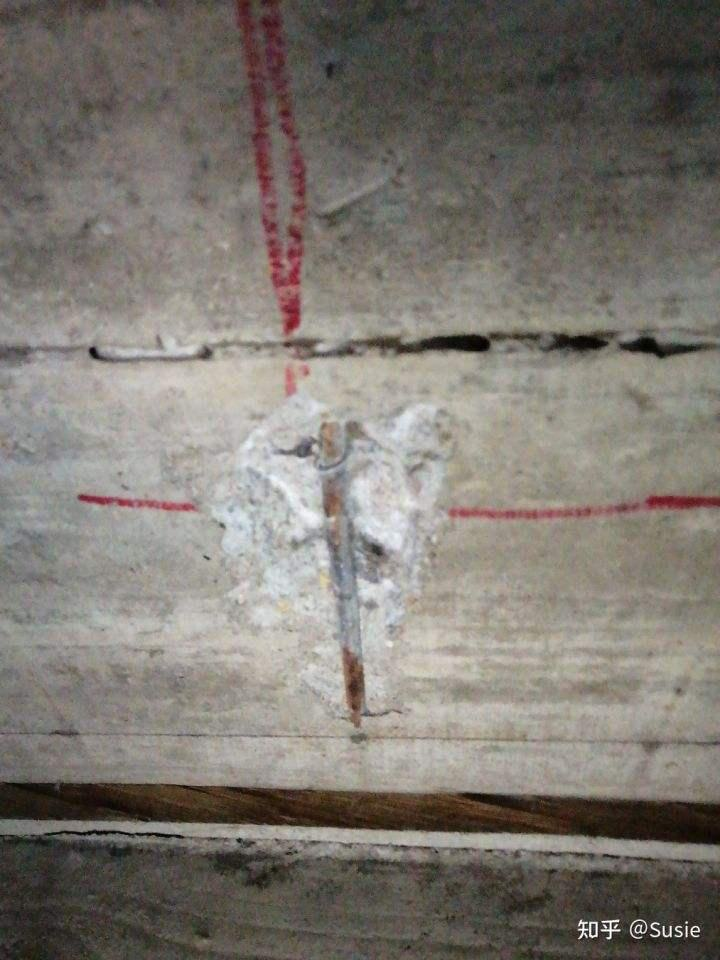Exposed reinforcement: (313, 420, 367, 729)
Spalling: (193, 384, 457, 732)
